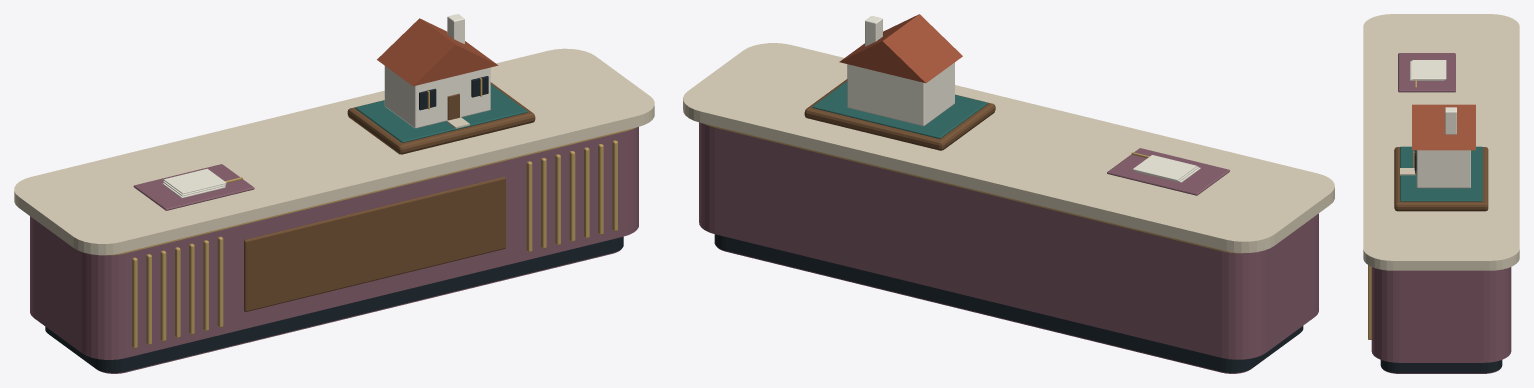
The model's file is estate-desk.glb.
3 views of the same model, side by side, from view 1: azimuth 30°, elevation 25°; view 2: azimuth 150°, elevation 25°; view 3: azimuth 270°, elevation 25° (orthographic). The views are drawn at different scales.
Visible parts, largest first — view 1: EXPORT_PRP_estate_top, EXPORT_PRP_estate_body, EXPORT_PRP_estate_front_inset, EXPORT_PRP_estate_rim, EXPORT_PRP_estate_toe, EXPORT_PRP_estate_document_0, EXPORT_PRP_estate_gabled_roof, EXPORT_PRP_estate_model_lawn; view 2: EXPORT_PRP_estate_body, EXPORT_PRP_estate_top, EXPORT_PRP_estate_toe, EXPORT_PRP_estate_document_0, EXPORT_PRP_estate_gabled_roof, EXPORT_PRP_estate_model_lawn, EXPORT_PRP_estate_front_inset, EXPORT_PRP_estate_rim; view 3: EXPORT_PRP_estate_top, EXPORT_PRP_estate_body, EXPORT_PRP_estate_document_0, EXPORT_PRP_estate_gabled_roof, EXPORT_PRP_estate_model_lawn, EXPORT_PRP_estate_front_inset, EXPORT_PRP_estate_toe, EXPORT_PRP_estate_rim.
Part boxes in pixels (x1=…): EXPORT_PRP_estate_top: x1=14, y1=48, x2=654, y2=255; EXPORT_PRP_estate_body: x1=30, y1=127, x2=638, y2=373; EXPORT_PRP_estate_front_inset: x1=244, y1=82, x2=535, y2=311; EXPORT_PRP_estate_rim: x1=107, y1=78, x2=635, y2=348; EXPORT_PRP_estate_toe: x1=45, y1=76, x2=623, y2=372; EXPORT_PRP_estate_document_0: x1=162, y1=14, x2=490, y2=198; EXPORT_PRP_estate_gabled_roof: x1=377, y1=18, x2=498, y2=86; EXPORT_PRP_estate_model_lawn: x1=355, y1=84, x2=527, y2=142; EXPORT_PRP_estate_body: x1=699, y1=122, x2=1318, y2=373; EXPORT_PRP_estate_top: x1=683, y1=43, x2=1334, y2=253; EXPORT_PRP_estate_toe: x1=714, y1=234, x2=1303, y2=372; EXPORT_PRP_estate_document_0: x1=847, y1=16, x2=1200, y2=182; EXPORT_PRP_estate_gabled_roof: x1=839, y1=14, x2=962, y2=83; EXPORT_PRP_estate_model_lawn: x1=812, y1=81, x2=987, y2=138; EXPORT_PRP_estate_front_inset: x1=804, y1=79, x2=995, y2=150; EXPORT_PRP_estate_rim: x1=702, y1=123, x2=1243, y2=253; EXPORT_PRP_estate_top: x1=1363, y1=14, x2=1519, y2=270; EXPORT_PRP_estate_body: x1=1371, y1=53, x2=1511, y2=373; EXPORT_PRP_estate_document_0: x1=1410, y1=60, x2=1470, y2=188; EXPORT_PRP_estate_gabled_roof: x1=1412, y1=104, x2=1475, y2=150; EXPORT_PRP_estate_model_lawn: x1=1400, y1=146, x2=1482, y2=201; EXPORT_PRP_estate_front_inset: x1=1394, y1=147, x2=1488, y2=211; EXPORT_PRP_estate_toe: x1=1380, y1=150, x2=1502, y2=373; EXPORT_PRP_estate_rim: x1=1368, y1=79, x2=1416, y2=339.
Bounding box in the file's own units: 4.85 × 1.9 × 1.3.
